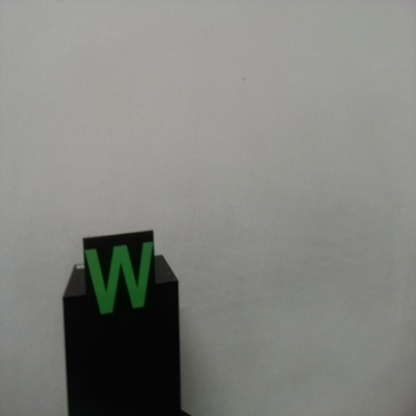id_12: (82, 237, 156, 332)
